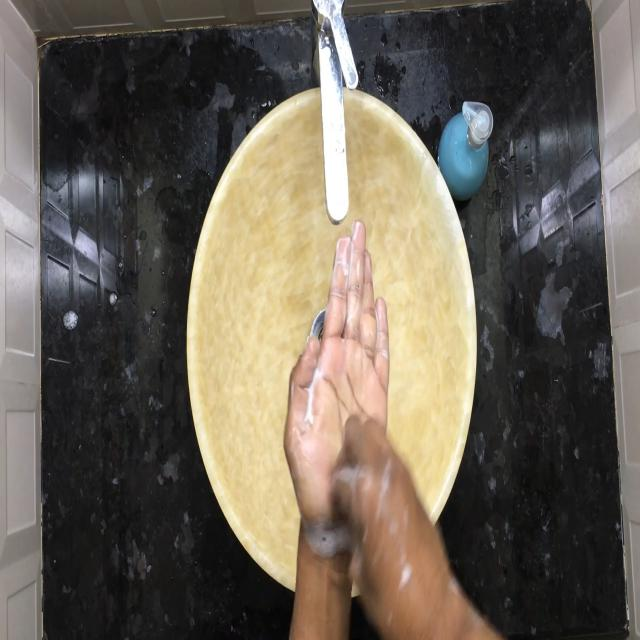step_6: (278, 206, 445, 628)
